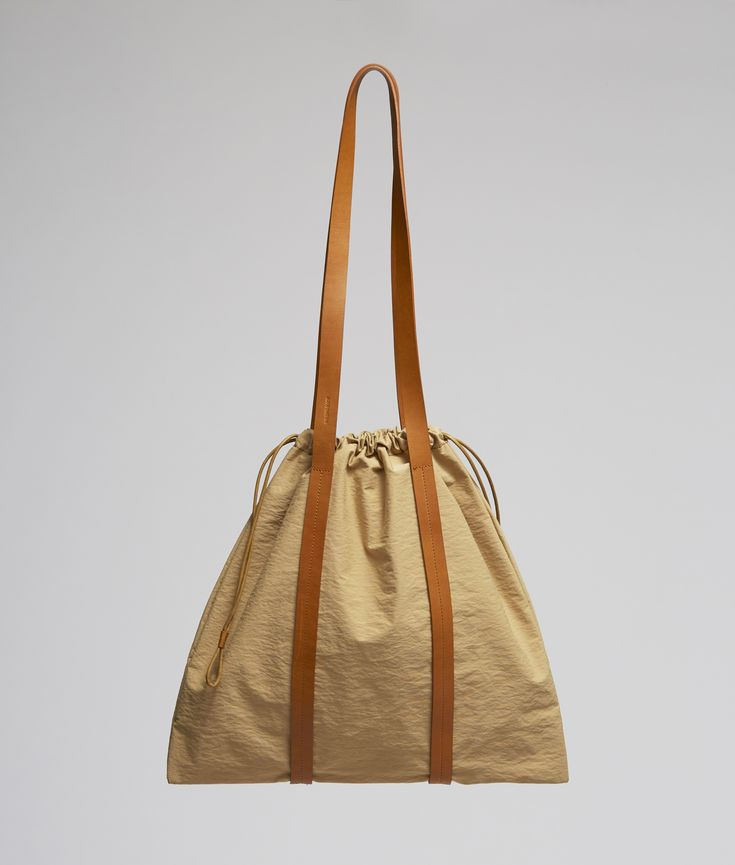nylon: (166, 428, 570, 786)
